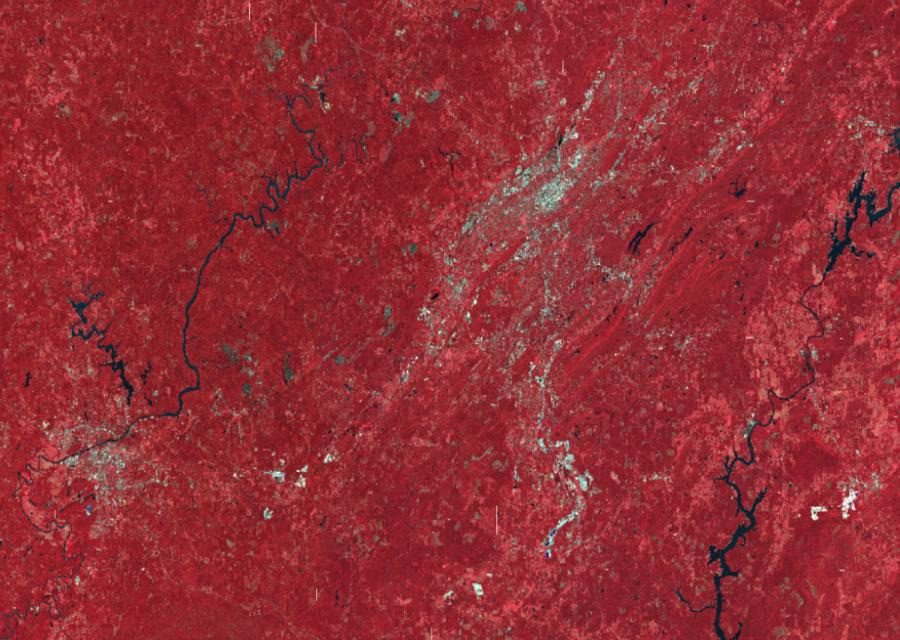Potential Lime Manufacturing Facility: (543, 511, 579, 562)
